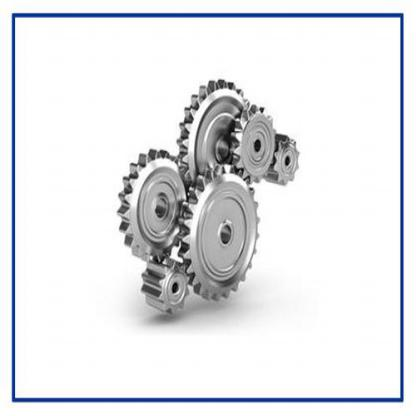FOD: (178, 162, 262, 304), (115, 148, 190, 267), (176, 76, 249, 188), (228, 101, 278, 187), (139, 253, 191, 319), (266, 126, 300, 186)
